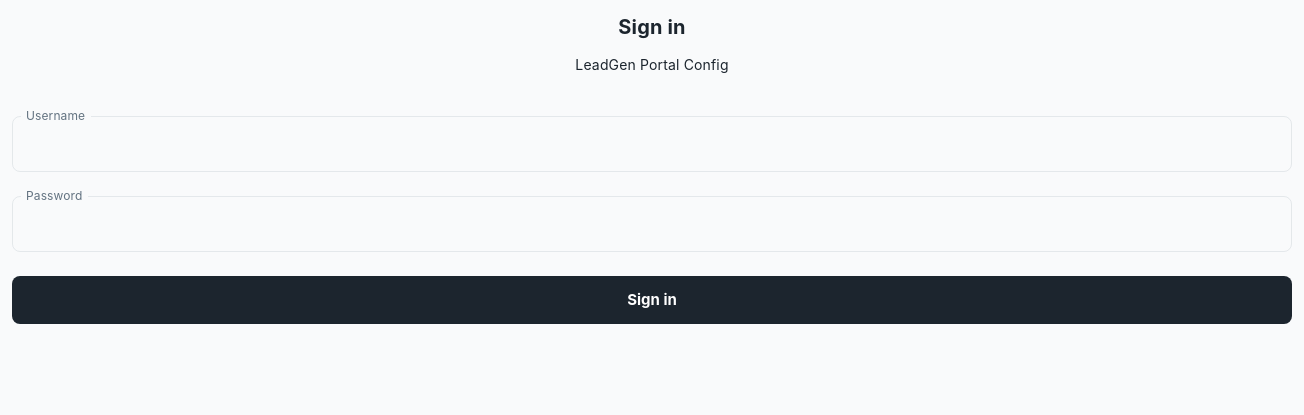
Scenario: SignInView › shows a credentials message when the portal answers 401
Type "root" into the field labelled "Username" at {"x": 652, "y": 144}, box [12,116,1292,172]
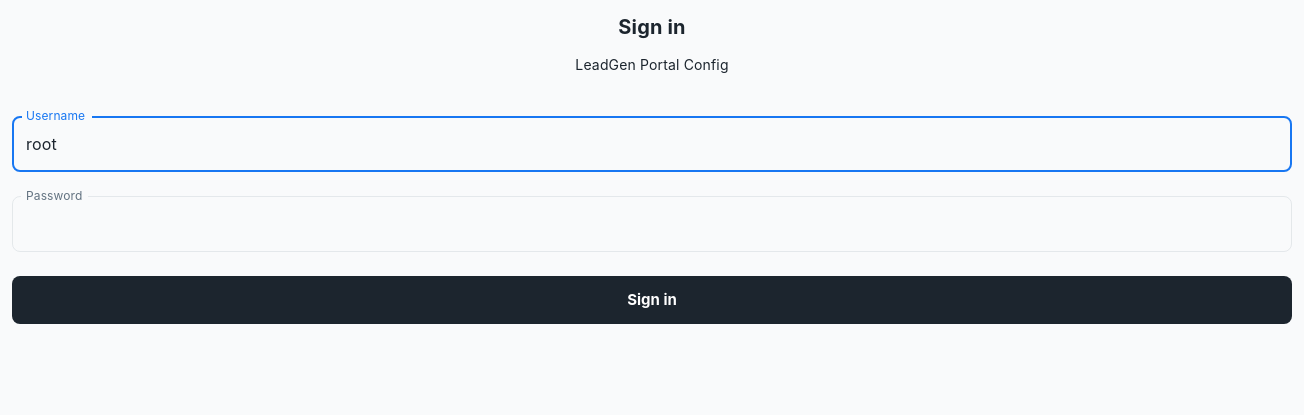
Type "secret" into the password field labelled "Password" at {"x": 629, "y": 224}, box [12,196,1246,252]
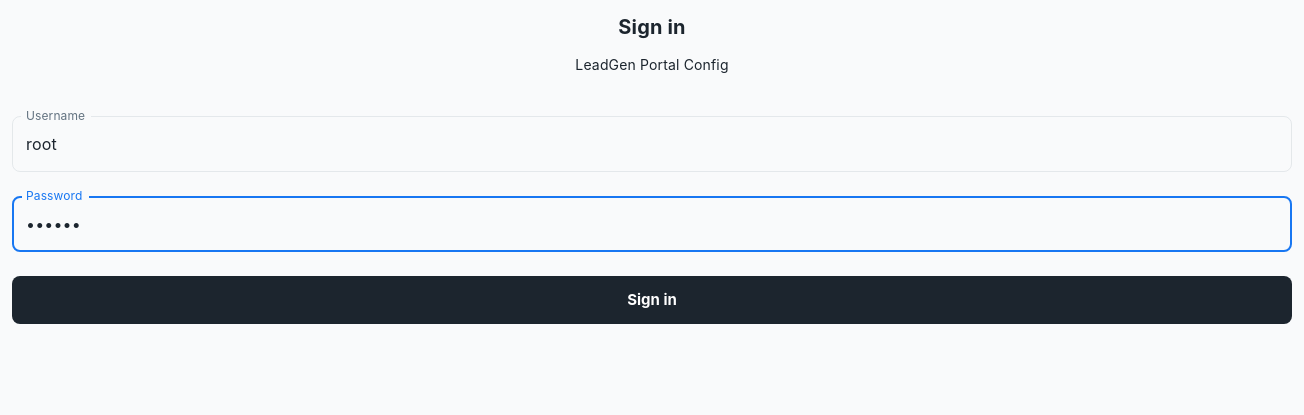
Click the button "Sign in" at {"x": 652, "y": 300}, box [12,276,1292,324]
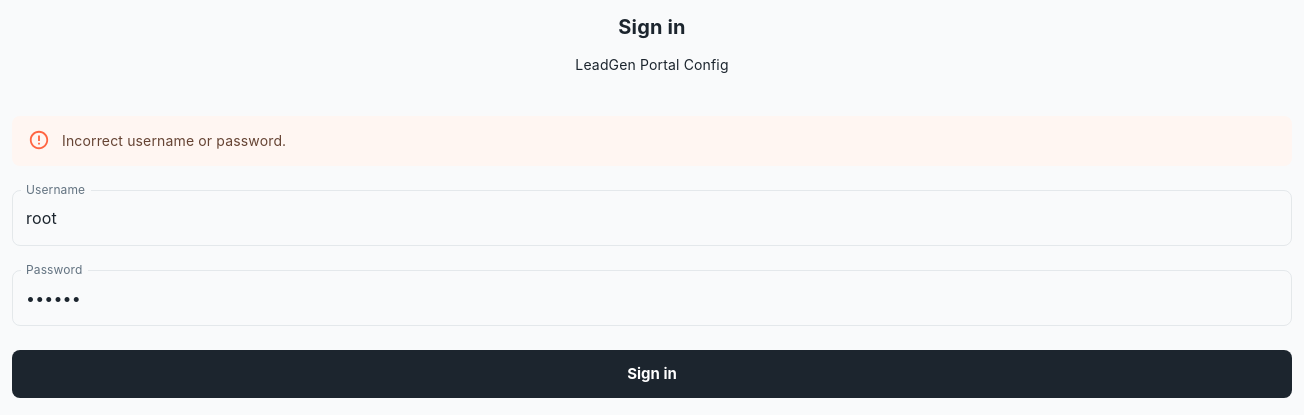
Check: the text "Incorrect username or password." is shown, box [62,132,286,149]
